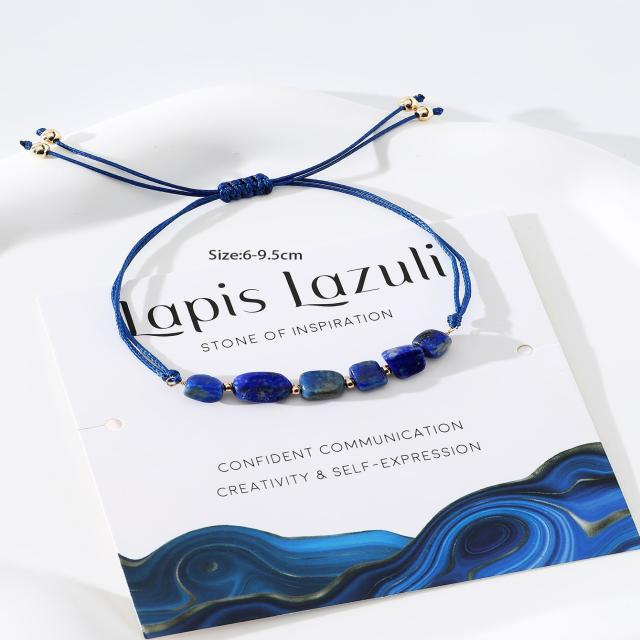bracelet: (0, 86, 581, 472)
